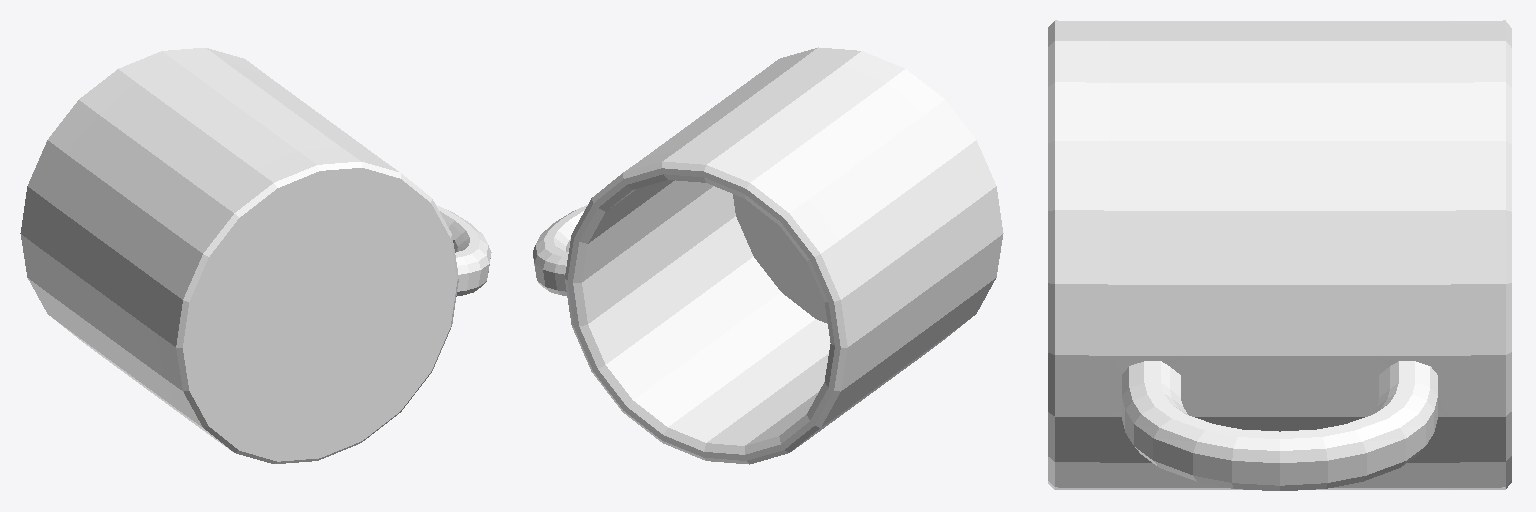
robot.urdf — nasa-mug.urdf:
<?xml version="1.0" ?>
<robot name="nasa-mug.urdf">
  <link name="baseLink">
    <inertial>
      <origin rpy="0 0 0" xyz="0 0 0"/>
       <mass value="0.0"/>
       <inertia ixx="0" ixy="0" ixz="0" iyy="0" iyz="0" izz="0"/>
    </inertial>
    <visual>
      <origin rpy="0 0 0" xyz="0 0 0"/>
      <geometry>
        <mesh filename="nasa-mug.obj" scale="0.03 0.03 0.03"/>
      </geometry>
      <material name="white">
       <color rgba="1 1 1 1"/>
     </material>
    </visual>
    <collision>
      <origin rpy="0 0 0" xyz="0 0 0"/>
      <geometry>
        <mesh filename="nasa-mug.obj" scale="0.03 0.03 0.03"/>
        <!-- You could also specify the collision (for the nasa-mug) with a "box" tag: -->
        <!-- <box size=".06 .06 .06"/> -->
      </geometry>
    </collision>
  </link>
</robot>

--- Render facts (derived) ---
The picture shows the robot from 3 angles, left to right: view 1: azimuth 30°, elevation 25°; view 2: azimuth 150°, elevation 25°; view 3: azimuth 270°, elevation 25°; orthographic projection.
Model nasa-mug.urdf with 1 links and 0 joints (none), rooted at baseLink, posed all joints at 0.
Visible links, largest first — view 1: baseLink; view 2: baseLink; view 3: baseLink.
Link boxes in pixels (x1,y1,x2,y2): baseLink: (20,48,491,463); baseLink: (533,47,1003,464); baseLink: (1048,20,1511,490).
Size in the robot's own frame: 0.3395 by 0.252 by 0.2571 metres.
1 mesh visuals loaded from 1 distinct referenced files (1 OBJ).
